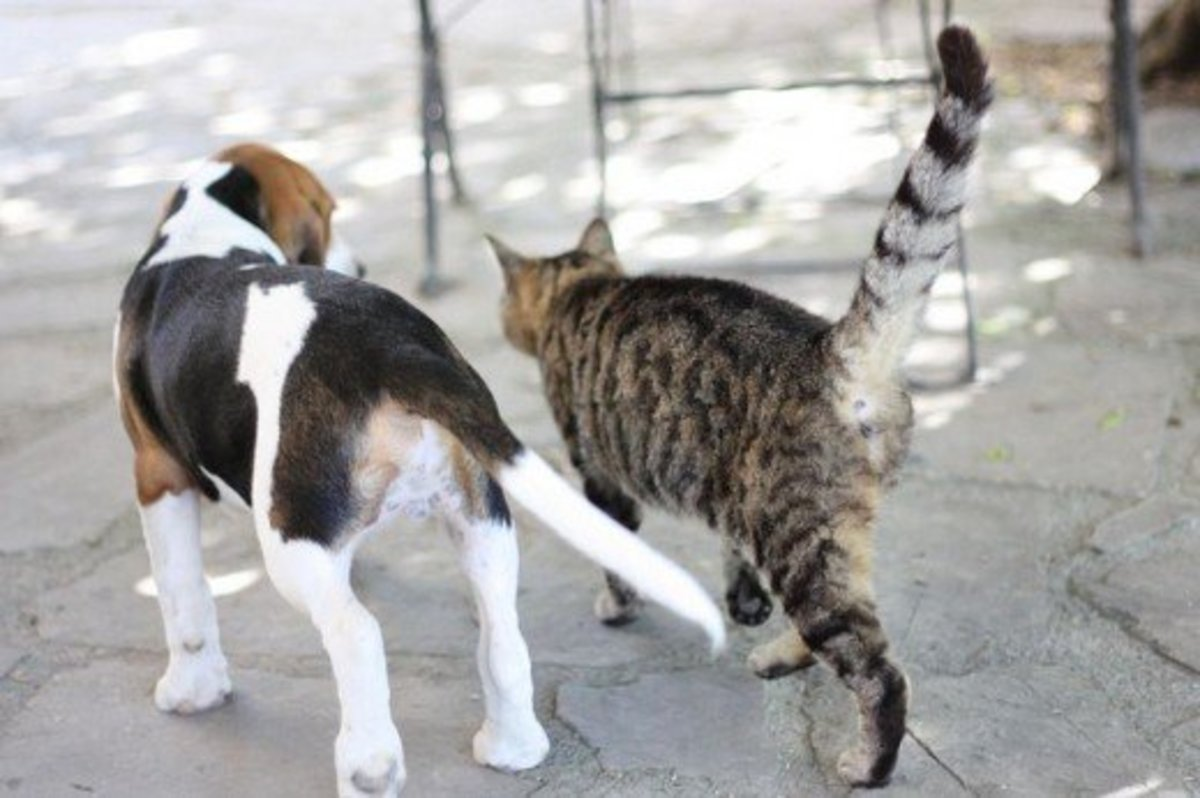Cat: (468, 13, 1023, 791)
Dog: (96, 127, 734, 798)
